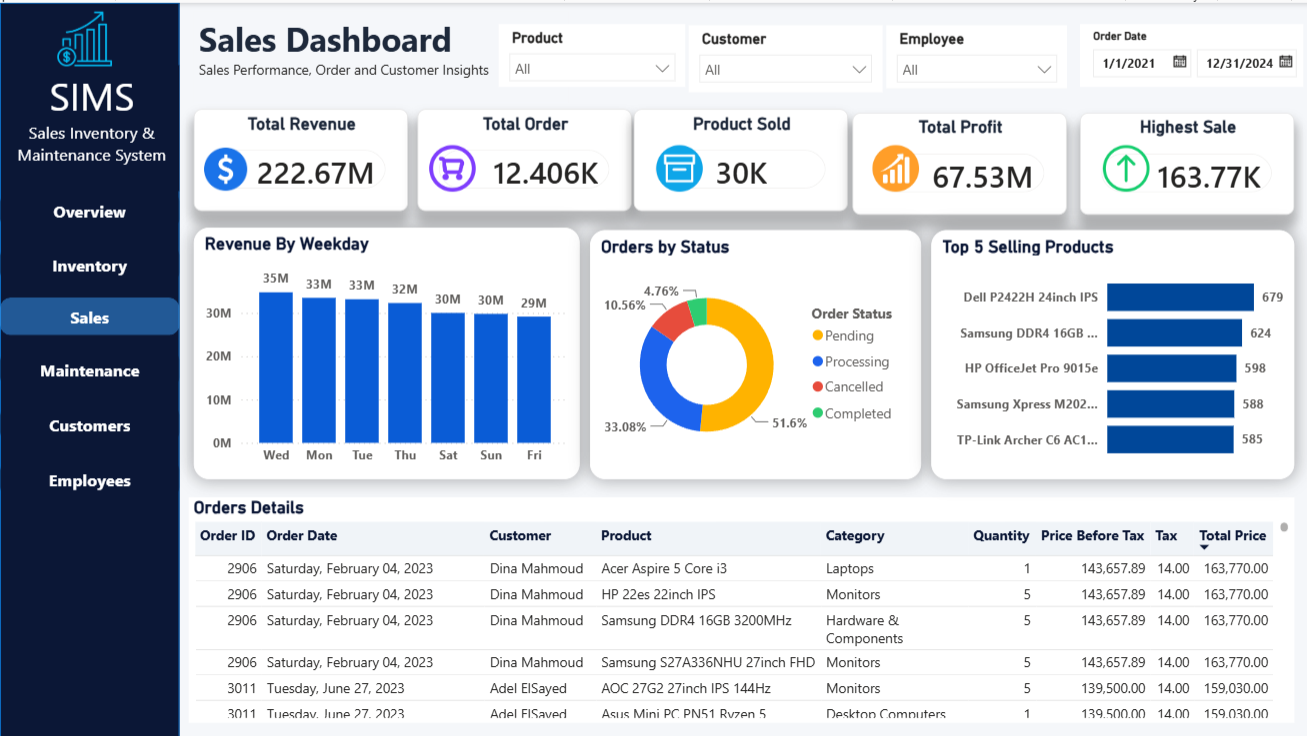

The dashboard page shown, as its layout file describes it:
{"tool":"powerbi","page":{"name":"Sales","canvas":[1280,720],"ordinal":2},"visuals":[{"type":"shape","box":[0,0,175.6,720.4],"z":0},{"type":"textbox","box":[5.5,61.7,170.2,123.5],"z":1000},{"type":"actionButton","box":[0,185.2,175.6,37],"z":2000},{"type":"actionButton","box":[0,237.4,175.6,37],"z":3000},{"type":"actionButton","box":[0,288.2,175.6,37],"z":4000},{"type":"actionButton","box":[0,340.3,175.6,37],"z":5000},{"type":"actionButton","box":[0,393.8,175.6,37],"z":6000},{"type":"actionButton","box":[0,447.3,175.6,37],"z":7000},{"type":"image","box":[0,8.2,166,53.5],"z":8000},{"type":"textbox","box":[189,8,366,89],"z":9000},{"type":"slicer","fields":{"Values":["products.Name"]},"box":[488.5,20.6,182.5,61.7],"z":10000},{"type":"slicer","fields":{"Values":["customers.Full Name"]},"box":[673.8,22,189.4,65.9],"z":11000},{"type":"slicer","fields":{"Values":["employees.Full Name"]},"box":[867.2,22,177,61.7],"z":12000},{"type":"cardVisual","title":"Total Revenue","fields":{"Data":["Sum(sales.Total_Price)"]},"box":[189,104.3,209.9,100.2],"z":13000},{"type":"cardVisual","title":"Total Order","fields":{"Data":["CountNonNull(pro_sales.Sales_id)"]},"box":[408,104.3,209.9,100.2],"z":14000},{"type":"cardVisual","title":"Product Sold","fields":{"Data":["Sum(pro_sales.Quantity)"]},"box":[620,104.3,209.9,100.2],"z":15000},{"type":"cardVisual","title":"Total Profit","fields":{"Data":["sales.Profit"]},"box":[834,107,209.9,100.2],"z":16000},{"type":"cardVisual","title":"Highest Sale","fields":{"Data":["Max(sales.Total_Price)"]},"box":[1056.6,107,209.9,100.2],"z":17000},{"type":"clusteredColumnChart","title":"Revenue By Weekday","fields":{"Y":["Sum(sales.Total_Price)"],"Category":["sales.Weekday_Name"]},"box":[189.6,219.5,377.7,246.6],"z":18000},{"type":"donutChart","title":"Orders by Status","fields":{"Category":["sales.Order Status"],"Y":["Count(sales.Sales_id)"]},"box":[577,222.3,324,244.3],"z":19000},{"type":"tableEx","title":"Orders Details","fields":{"Values":["sales.Sales_id","sales.Order_date","customers.Full Name","products.Name","categories.Name","Sum(pro_sales.Quantity)","Sum(sales.Price_Before_Tax)","Sum(sales.Tax)","Sum(sales.Total_Price)"]},"box":[185.2,484.4,1081.3,220.9],"z":20000},{"type":"barChart","title":"Top 5 Selling Products","fields":{"Category":["products.Name"],"Y":["Sum(pro_sales.Quantity)"]},"box":[911.2,222.3,355.4,244.3],"z":21000},{"type":"slicer","fields":{"Values":["sales.Order_date"]},"box":[1056.6,20.6,218.2,61.7],"z":22000},{"type":"image","box":[189.6,135.4,62.7,54.2],"z":23000},{"type":"image","box":[417.6,139.7,48.5,45.6],"z":24000},{"type":"image","box":[640,139.7,49.9,45.6],"z":25000},{"type":"image","box":[851,139.7,49.9,45.6],"z":26000},{"type":"image","box":[1077.6,139.7,48.5,45.6],"z":27000}]}

Visuals, with their boxes on the page's 1280x720 design canvas (x1, y1, x2, y2). These are canvas units, not pixel positions in the 1307x736 screenshot, which may show the page scaled, cropped or inside an application window:
shape: bbox(0, 0, 176, 720)
textbox: bbox(6, 62, 176, 185)
actionButton: bbox(0, 185, 176, 222)
actionButton: bbox(0, 237, 176, 274)
actionButton: bbox(0, 288, 176, 325)
actionButton: bbox(0, 340, 176, 377)
actionButton: bbox(0, 394, 176, 431)
actionButton: bbox(0, 447, 176, 484)
image: bbox(0, 8, 166, 62)
textbox: bbox(189, 8, 555, 97)
slicer - products.Name: bbox(488, 21, 671, 82)
slicer - customers.Full Name: bbox(674, 22, 863, 88)
slicer - employees.Full Name: bbox(867, 22, 1044, 84)
"Total Revenue" cardVisual: bbox(189, 104, 399, 204)
"Total Order" cardVisual: bbox(408, 104, 618, 204)
"Product Sold" cardVisual: bbox(620, 104, 830, 204)
"Total Profit" cardVisual: bbox(834, 107, 1044, 207)
"Highest Sale" cardVisual: bbox(1057, 107, 1266, 207)
"Revenue By Weekday" clusteredColumnChart: bbox(190, 220, 567, 466)
"Orders by Status" donutChart: bbox(577, 222, 901, 467)
"Orders Details" tableEx: bbox(185, 484, 1266, 705)
"Top 5 Selling Products" barChart: bbox(911, 222, 1267, 467)
slicer - sales.Order_date: bbox(1057, 21, 1275, 82)
image: bbox(190, 135, 252, 190)
image: bbox(418, 140, 466, 185)
image: bbox(640, 140, 690, 185)
image: bbox(851, 140, 901, 185)
image: bbox(1078, 140, 1126, 185)
